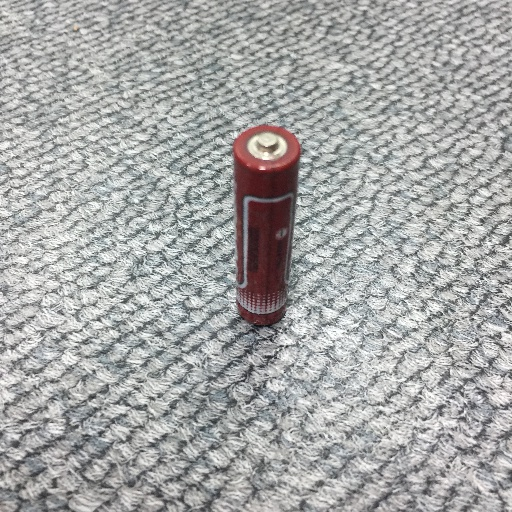Battery_0: (222, 115, 302, 333)
